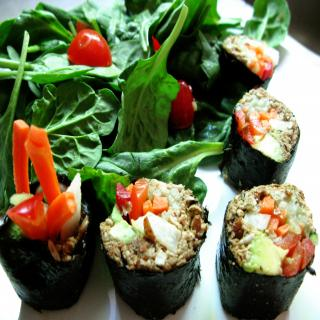Salad: (4, 123, 96, 270), (96, 168, 212, 282), (222, 182, 319, 285), (231, 85, 305, 169), (223, 30, 285, 87)
Sushi: (0, 121, 93, 312), (100, 176, 210, 320), (220, 183, 320, 318), (219, 87, 301, 187), (220, 34, 277, 94)
Tomato: (62, 26, 108, 67), (168, 80, 194, 134)
